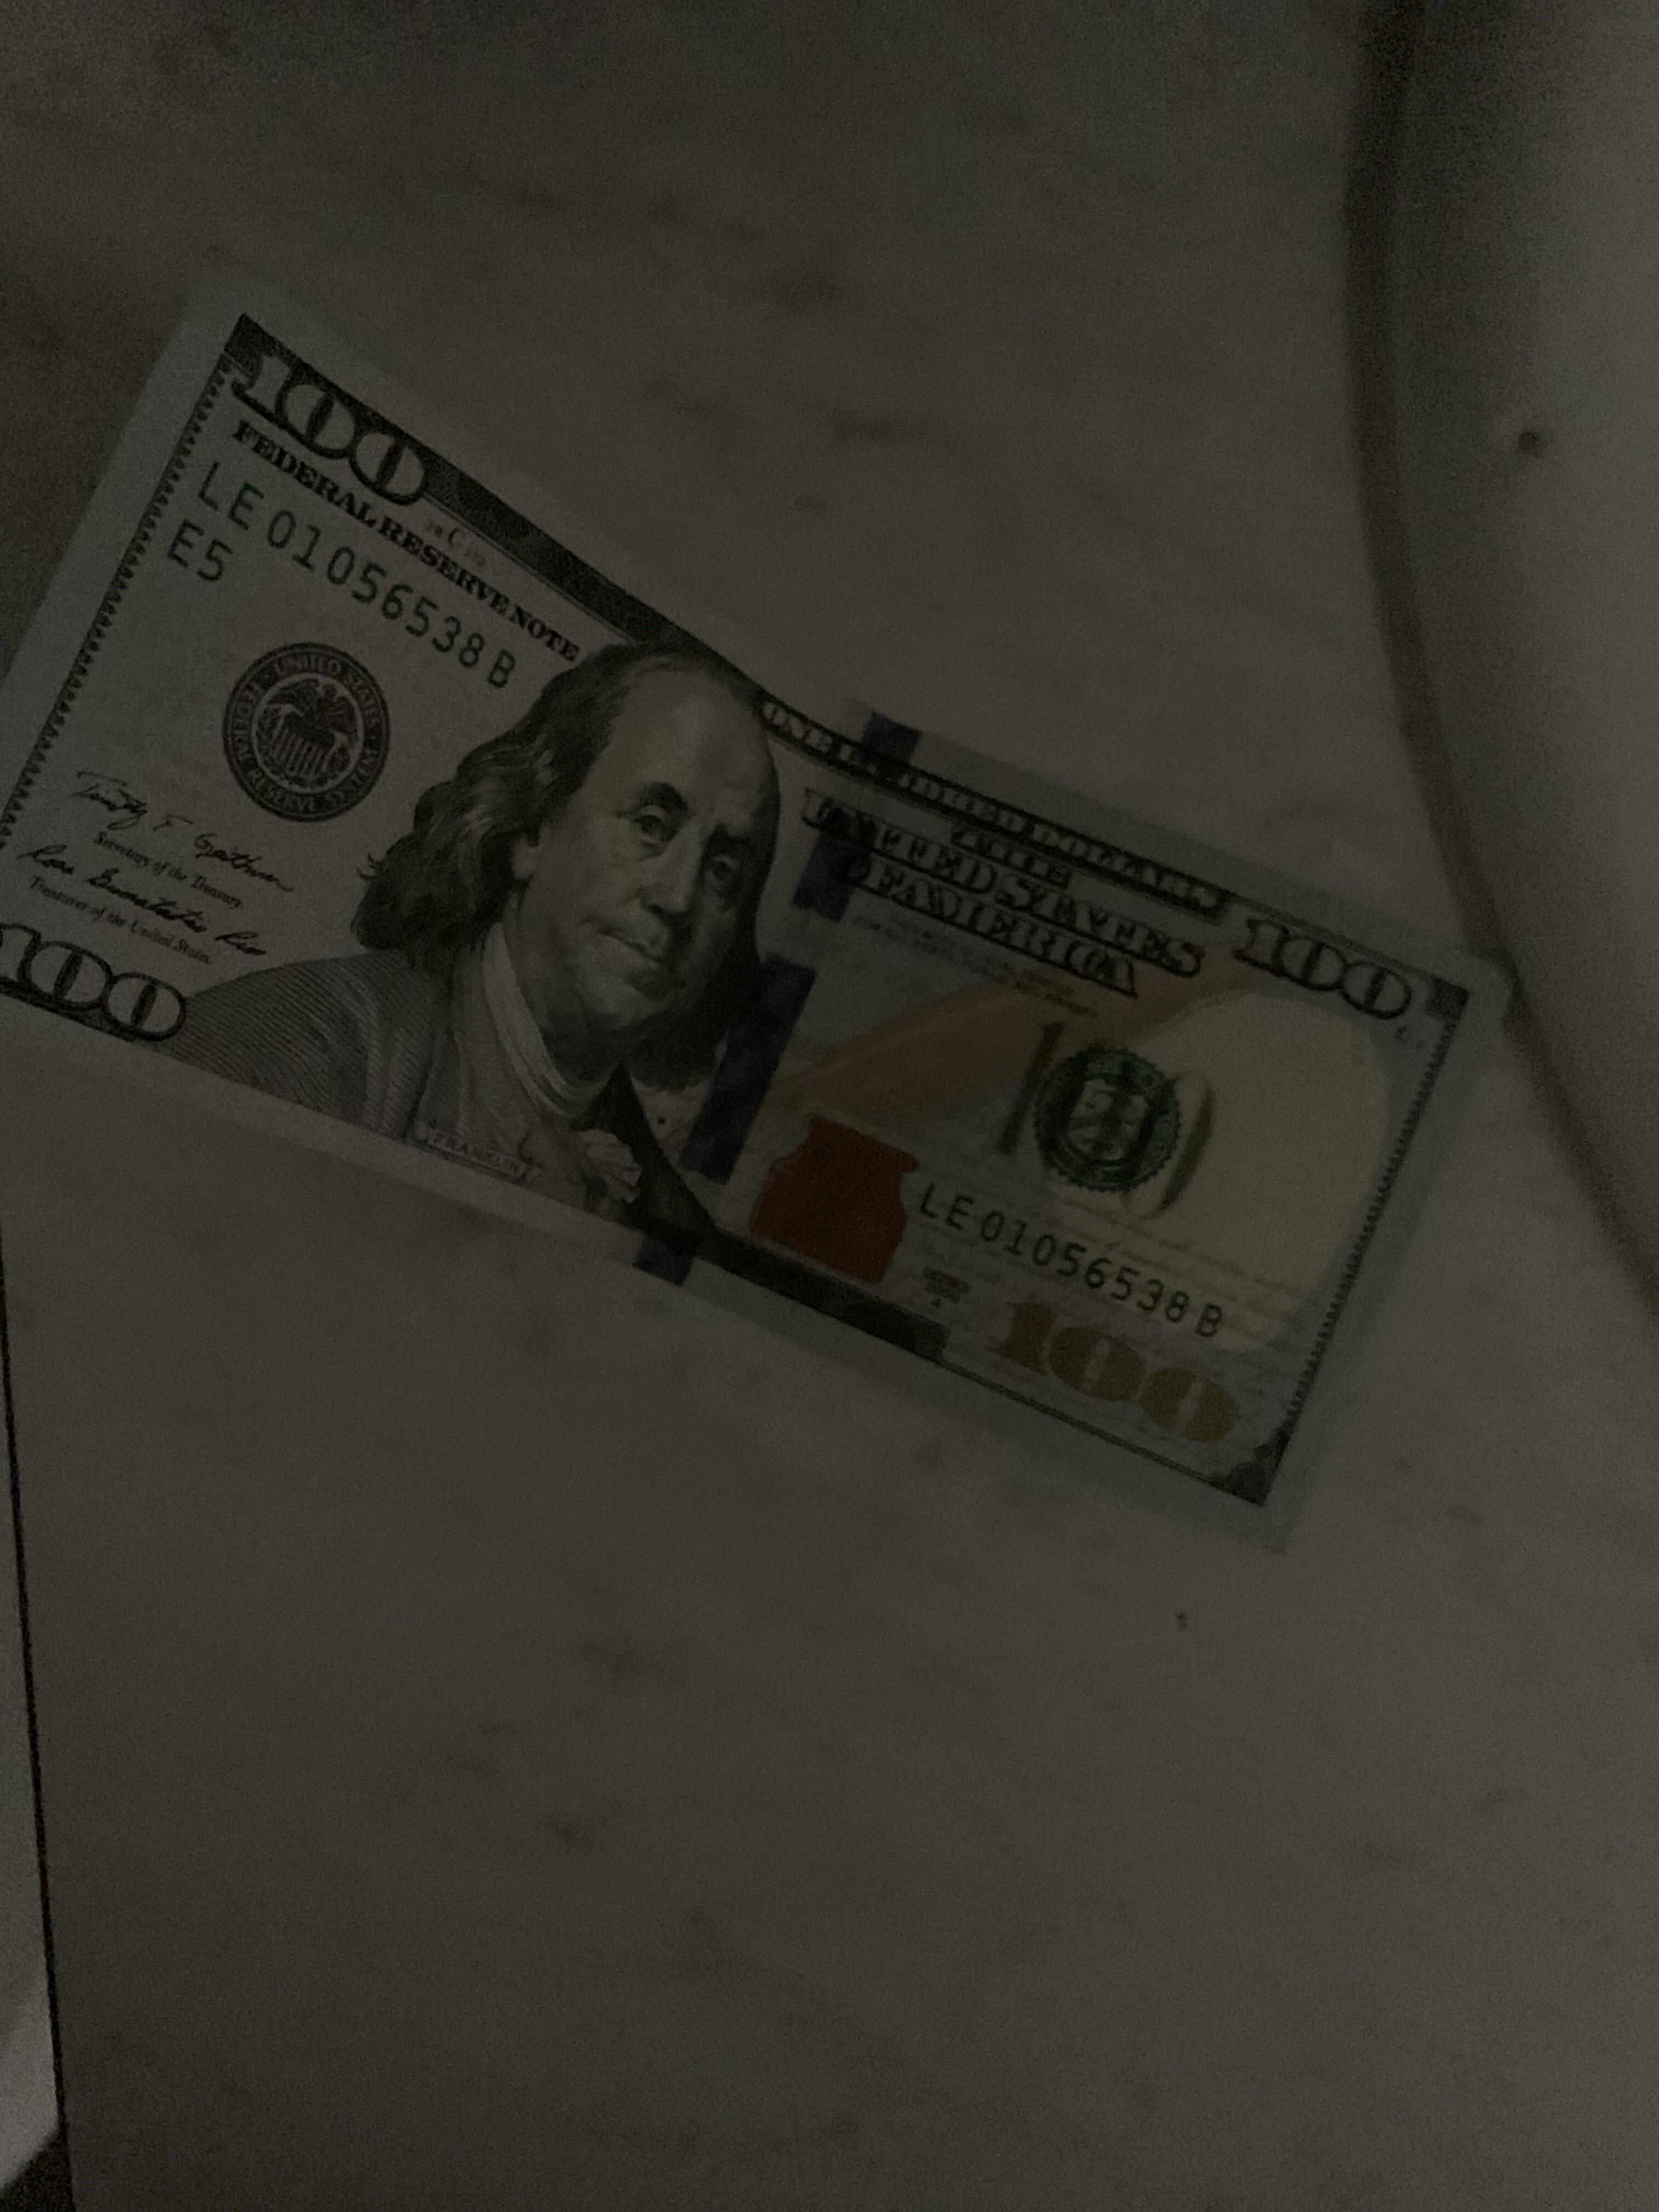HundredBill: (2, 226, 1549, 1613)
